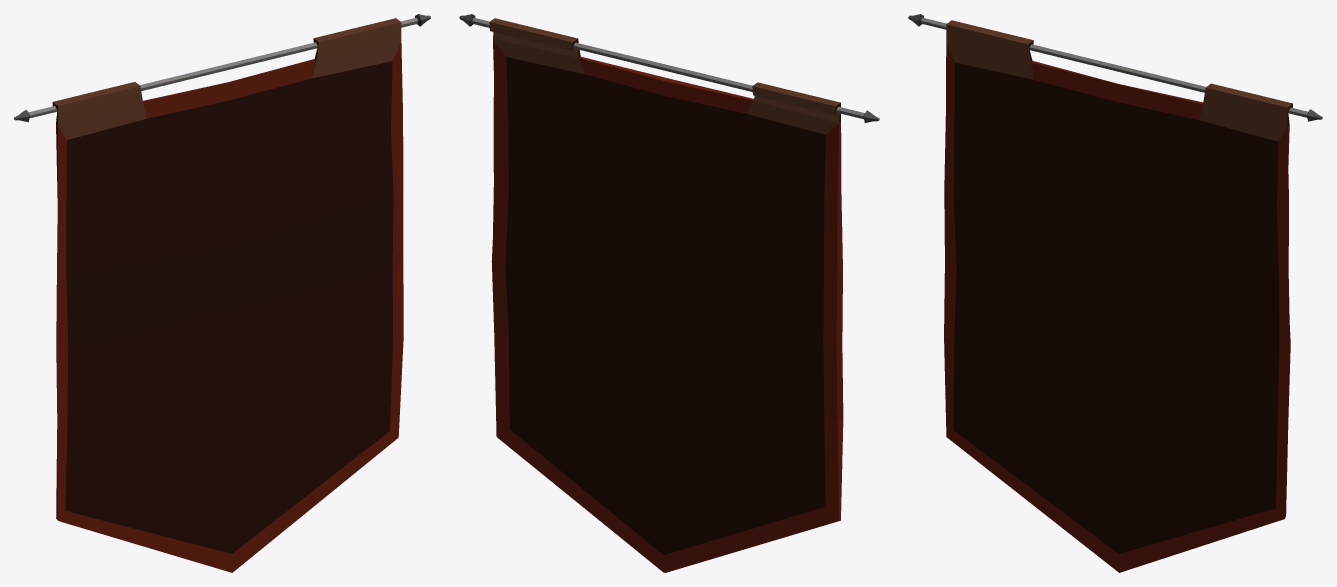
The model's file is Banner_Red_02.glb.
3 renders of one model, left to right at view 1: azimuth 30°, elevation 25°; view 2: azimuth 150°, elevation 25°; view 3: azimuth 330°, elevation 25°, orthographic.
Parts seen in each view (by area): view 1: Banner_Red_02; view 2: Banner_Red_02; view 3: Banner_Red_02.
Part boxes in pixels (box(x1,y1,x2,y2)): Banner_Red_02: box(14, 14, 430, 572); Banner_Red_02: box(459, 14, 879, 572); Banner_Red_02: box(908, 14, 1322, 572).
Size of what is drawn, in the model's own units: 1.89 by 2.22 by 0.0546.
Materials: 1 (1 with a texture image).
